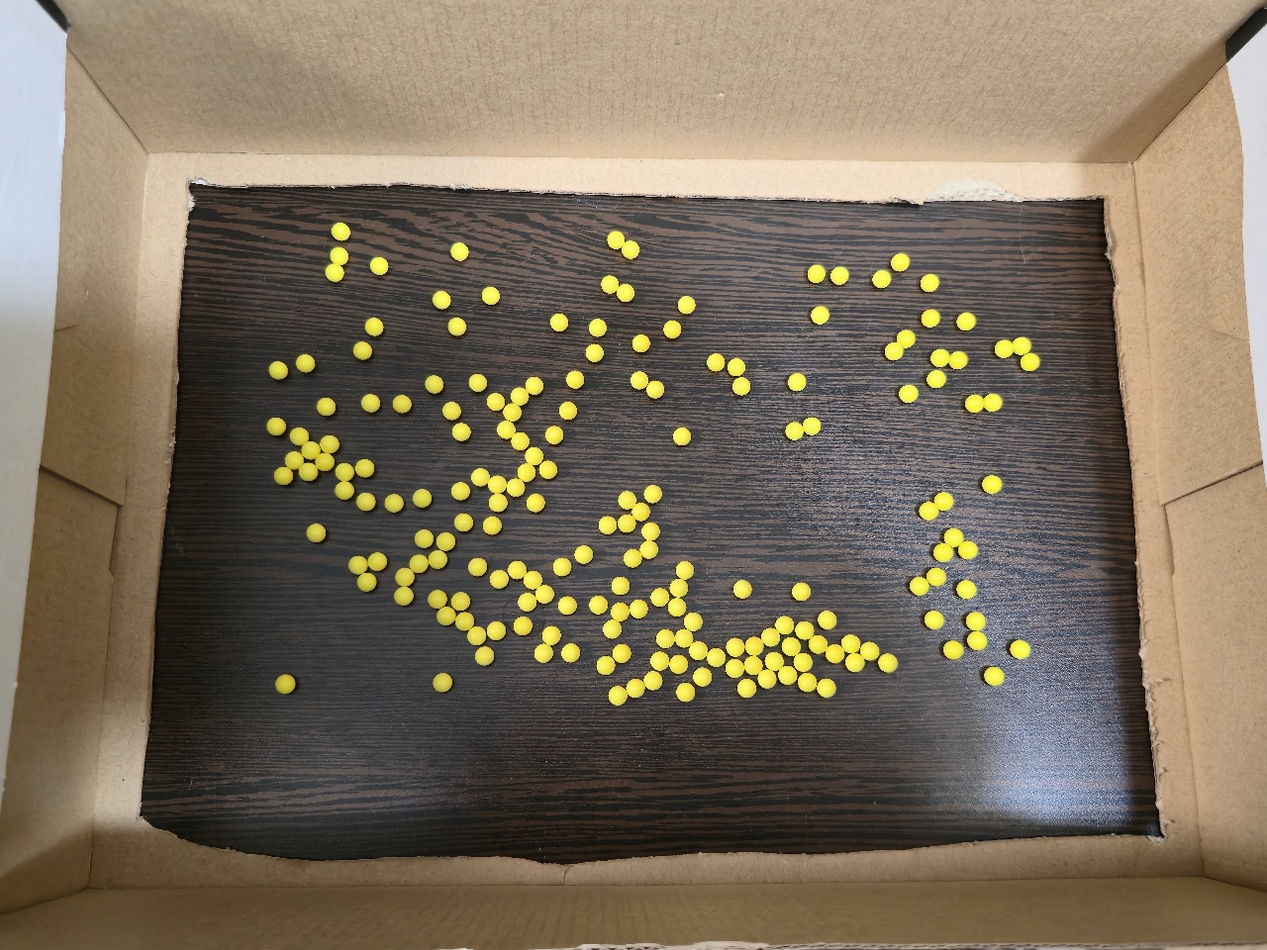yellow_bead: (889, 333, 911, 356), (999, 341, 1027, 354), (934, 353, 963, 363), (6, 363, 21, 374), (971, 635, 983, 646), (930, 572, 942, 583), (937, 547, 949, 558), (938, 496, 950, 507), (903, 388, 915, 399), (947, 645, 960, 655), (849, 657, 860, 668), (654, 656, 665, 667), (1015, 644, 1026, 655), (961, 584, 972, 595), (948, 532, 959, 543), (834, 270, 845, 281), (989, 672, 1001, 682), (914, 582, 926, 592), (987, 398, 999, 408), (930, 374, 942, 384), (802, 678, 813, 688), (697, 672, 707, 683), (782, 671, 793, 681), (730, 663, 740, 674), (748, 660, 758, 671), (479, 651, 490, 661), (829, 649, 840, 659), (786, 641, 796, 652), (660, 634, 671, 644), (471, 631, 482, 641), (799, 625, 810, 635), (607, 623, 617, 634), (779, 620, 790, 630), (929, 615, 940, 625), (361, 577, 372, 587), (492, 480, 503, 490), (475, 472, 486, 482), (303, 467, 314, 477), (969, 399, 980, 409), (961, 317, 972, 327), (877, 273, 887, 284), (812, 268, 822, 279), (970, 617, 982, 626), (962, 545, 974, 554), (986, 480, 998, 489), (330, 266, 339, 278), (680, 688, 690, 698), (741, 684, 751, 694), (280, 680, 290, 690), (883, 658, 893, 668), (798, 658, 808, 668), (769, 657, 779, 667), (711, 653, 721, 663), (565, 648, 575, 658), (538, 648, 548, 658), (814, 639, 824, 649), (678, 633, 688, 643), (765, 632, 775, 642), (491, 626, 501, 636), (688, 617, 698, 627), (615, 608, 625, 618), (672, 603, 682, 613), (562, 601, 572, 611), (593, 600, 603, 610), (522, 598, 532, 608), (655, 593, 665, 603), (539, 590, 549, 600), (796, 587, 806, 597), (674, 583, 684, 593), (400, 572, 410, 582), (557, 562, 567, 572), (472, 562, 482, 572), (353, 560, 363, 570), (419, 534, 429, 544), (493, 498, 503, 508), (417, 494, 427, 504), (278, 471, 288, 481), (359, 463, 369, 473), (306, 445, 316, 455), (507, 407, 517, 417), (273, 365, 283, 375), (300, 358, 310, 368), (357, 345, 367, 355), (925, 278, 935, 288), (613, 691, 622, 702), (822, 683, 831, 694), (762, 674, 771, 685), (601, 660, 610, 671), (864, 647, 875, 656), (693, 646, 704, 655), (845, 639, 856, 648), (546, 630, 555, 641), (440, 612, 451, 621), (455, 596, 464, 607), (289, 456, 300, 465), (895, 257, 906, 266), (1024, 357, 1036, 365), (438, 678, 447, 688), (648, 676, 657, 686), (617, 649, 626, 659), (459, 617, 469, 626), (399, 591, 408, 601), (528, 575, 537, 585), (512, 566, 522, 575), (414, 559, 424, 568), (372, 557, 382, 566), (433, 554, 442, 564), (644, 544, 653, 554), (311, 528, 321, 537), (603, 521, 613, 530), (924, 506, 933, 516), (389, 499, 399, 508), (361, 497, 370, 507), (522, 467, 531, 477), (340, 467, 349, 477), (543, 465, 552, 475), (320, 457, 330, 466), (325, 439, 335, 448), (294, 432, 304, 441), (790, 427, 800, 436), (501, 425, 511, 434), (322, 402, 331, 412), (397, 399, 406, 409), (736, 382, 746, 391), (792, 378, 802, 387), (731, 363, 741, 372), (452, 322, 461, 332), (816, 311, 825, 321), (437, 295, 446, 305), (486, 291, 495, 301), (374, 261, 384, 270), (455, 246, 464, 256), (336, 227, 345, 237), (335, 251, 343, 262), (674, 660, 683, 669), (731, 643, 740, 652), (749, 642, 758, 651), (518, 621, 527, 630), (822, 616, 831, 625), (737, 585, 746, 594), (494, 575, 503, 584), (680, 566, 689, 575), (579, 550, 588, 559), (440, 537, 449, 546), (645, 527, 654, 536), (623, 496, 632, 505), (455, 487, 464, 496), (340, 486, 349, 495), (511, 483, 520, 492), (516, 436, 525, 445), (677, 431, 686, 440), (271, 422, 280, 431), (563, 407, 572, 416), (446, 407, 455, 416), (365, 399, 374, 408), (515, 392, 524, 401), (650, 385, 659, 394), (430, 380, 439, 389), (473, 379, 482, 388), (634, 376, 643, 385), (570, 375, 579, 384), (711, 358, 720, 367), (590, 348, 599, 357), (593, 324, 602, 333), (369, 323, 378, 332), (554, 318, 563, 327), (926, 314, 935, 323), (621, 288, 630, 297), (606, 280, 615, 289), (612, 235, 621, 244), (631, 684, 639, 694), (634, 605, 642, 615), (458, 519, 468, 527), (530, 451, 538, 461), (807, 422, 817, 430), (433, 595, 441, 604), (616, 582, 625, 590), (628, 554, 636, 563), (622, 520, 631, 528), (636, 508, 644, 517), (531, 499, 539, 508), (648, 490, 656, 499), (549, 431, 558, 439), (456, 428, 465, 436), (491, 398, 500, 406), (530, 382, 538, 391), (636, 338, 644, 347), (682, 300, 690, 309), (626, 244, 634, 253), (668, 325, 676, 333), (488, 522, 497, 529), (0, 366, 4, 368), (10, 374, 12, 376), (0, 347, 3, 348), (0, 709, 1, 711)
